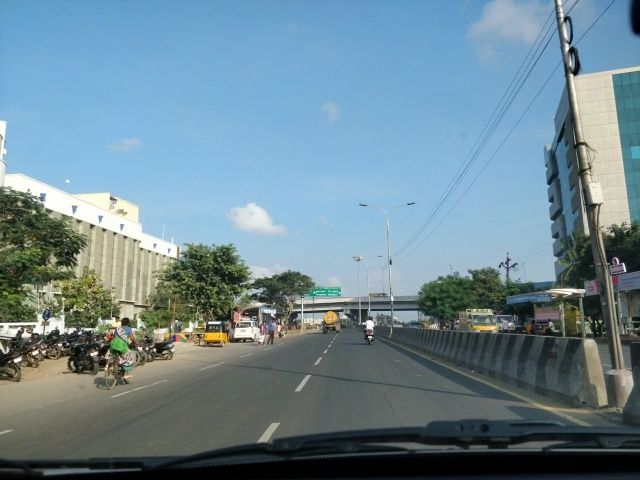auto: (204, 321, 228, 345)
car: (234, 321, 260, 342)
motorbike: (100, 313, 140, 395), (361, 315, 377, 345)
person: (266, 317, 276, 345)
truck: (458, 309, 498, 333), (322, 310, 340, 333)
